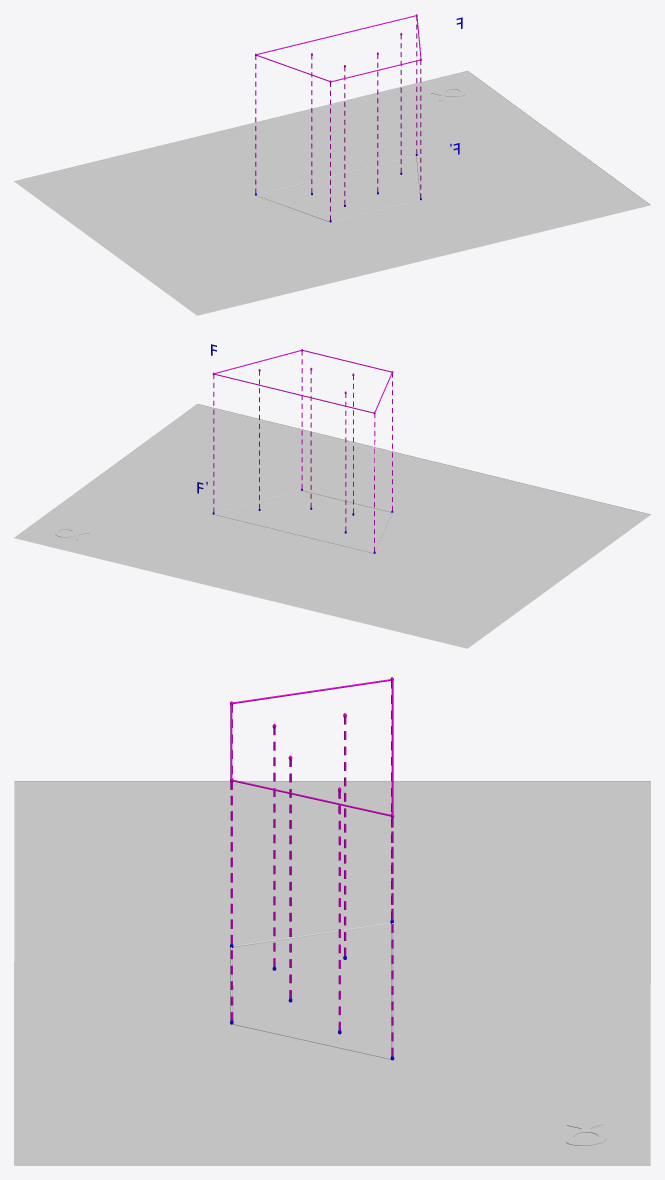
The picture shows the model from 3 angles, top to bottom: view 1: azimuth 30°, elevation 25°; view 2: azimuth 150°, elevation 25°; view 3: azimuth 270°, elevation 25°; orthographic projection. The views are drawn at different scales.
Parts seen in each view (by area): view 1: plano_ALFA_Box, A4_Cylinder; view 2: plano_ALFA_Box, A4_Cylinder; view 3: plano_ALFA_Box, A4_Cylinder.
Part boxes in pixels (bbox=[...]): plano_ALFA_Box: bbox=[14, 70, 650, 315]; A4_Cylinder: bbox=[255, 14, 421, 220]; plano_ALFA_Box: bbox=[14, 404, 650, 648]; A4_Cylinder: bbox=[212, 349, 393, 551]; plano_ALFA_Box: bbox=[14, 781, 650, 1165]; A4_Cylinder: bbox=[230, 677, 394, 1056].
Size of the model in its own units: 10 by 3.14 by 7.
